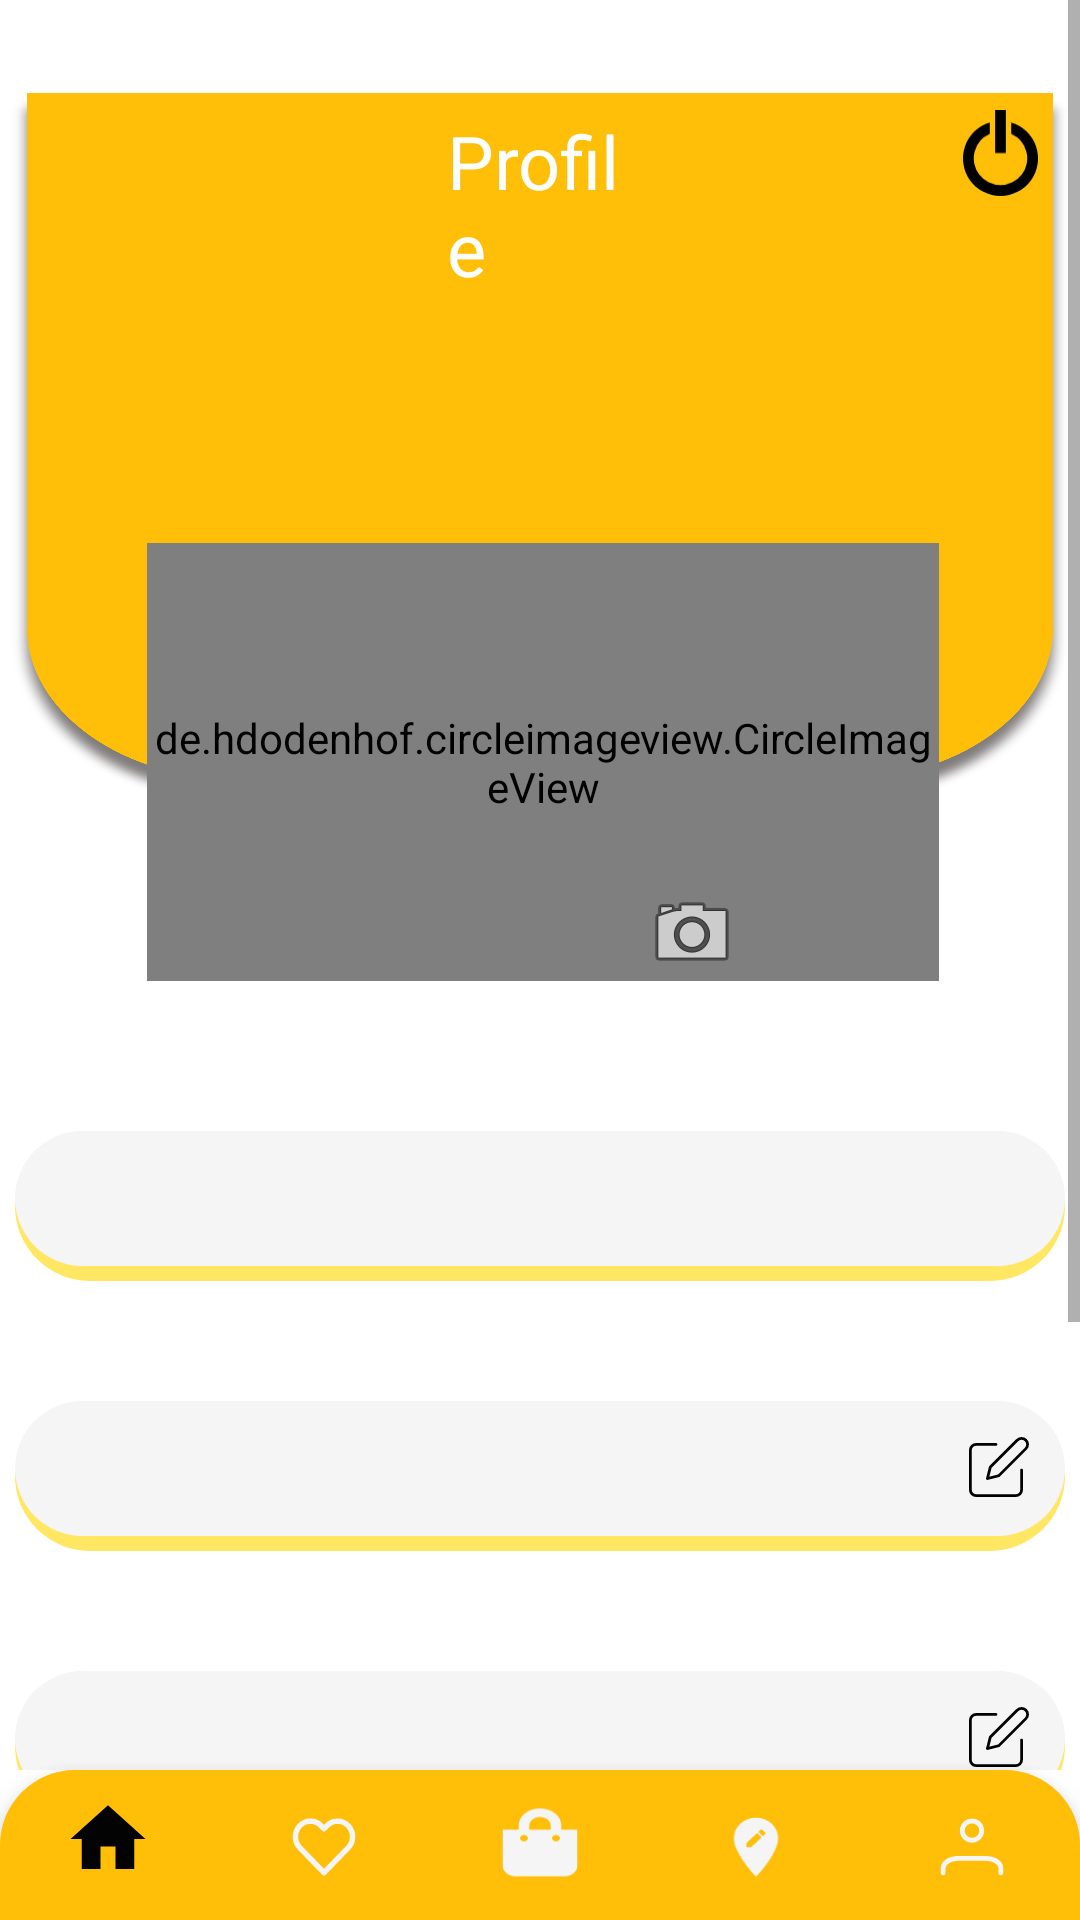

Where icons sit on this 1080px x 1920px app screen, as (x1, y1, x2, y2):
camera: (655, 902, 729, 961)
